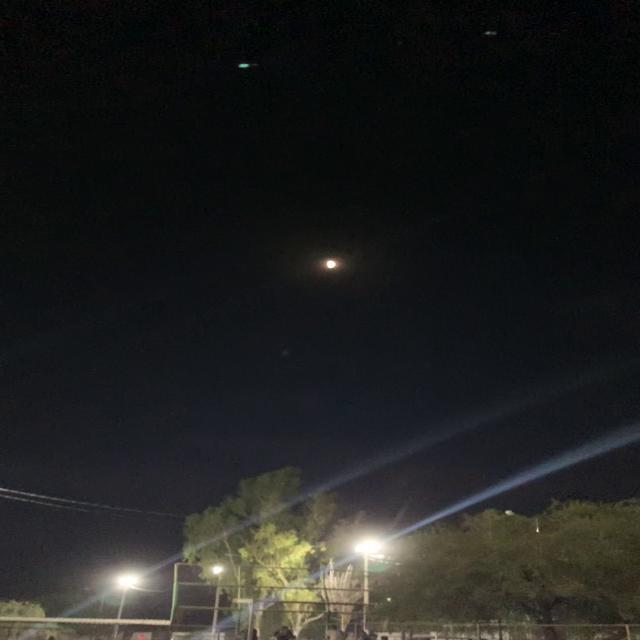moon: (317, 255, 353, 274)
